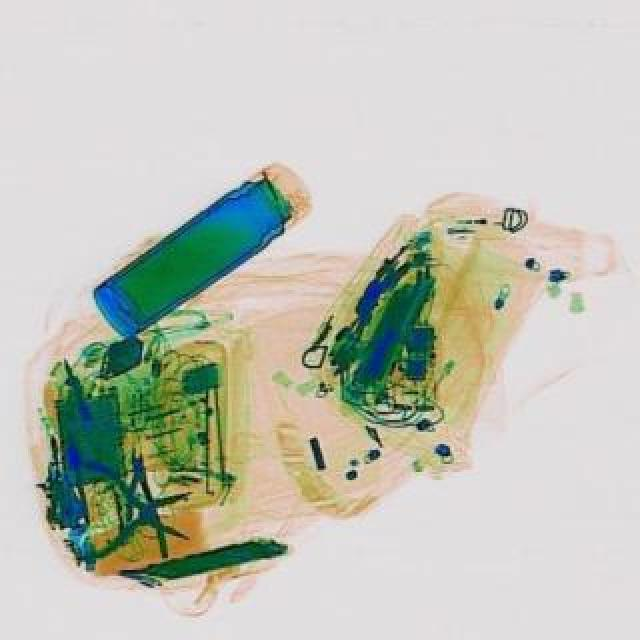wrench: (72, 458, 196, 560), (122, 446, 170, 558)
